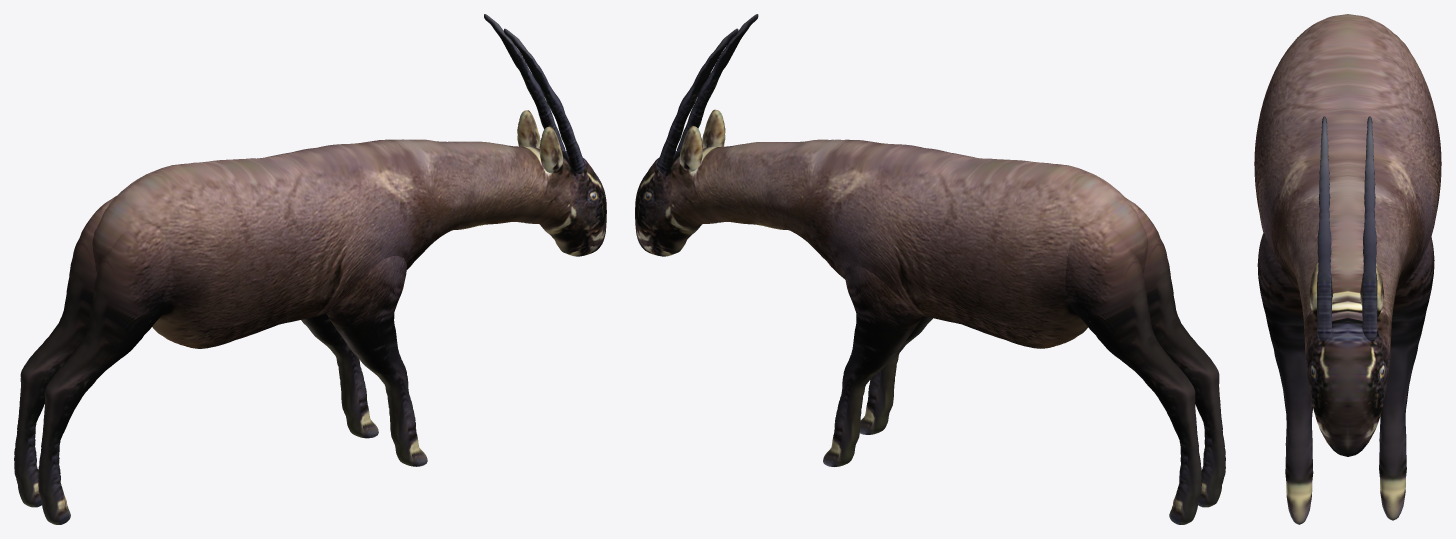
The model's file is saola.glb.
3 views of the same model, side by side, from view 1: azimuth 30°, elevation 25°; view 2: azimuth 150°, elevation 25°; view 3: azimuth 270°, elevation 25° (orthographic). The views are drawn at different scales.
Parts seen in each view (by area): view 1: mm_frame (58); view 2: mm_frame (58); view 3: mm_frame (58).
Boxes of the visible parts, x1,y1,x2,y2 form: mm_frame (58): (14,14,606,524); mm_frame (58): (635,14,1225,524); mm_frame (58): (1254,14,1441,524).
Bounding box in the file's own units: 9.2 × 6.21 × 2.29.
1 material, 1 textured.
